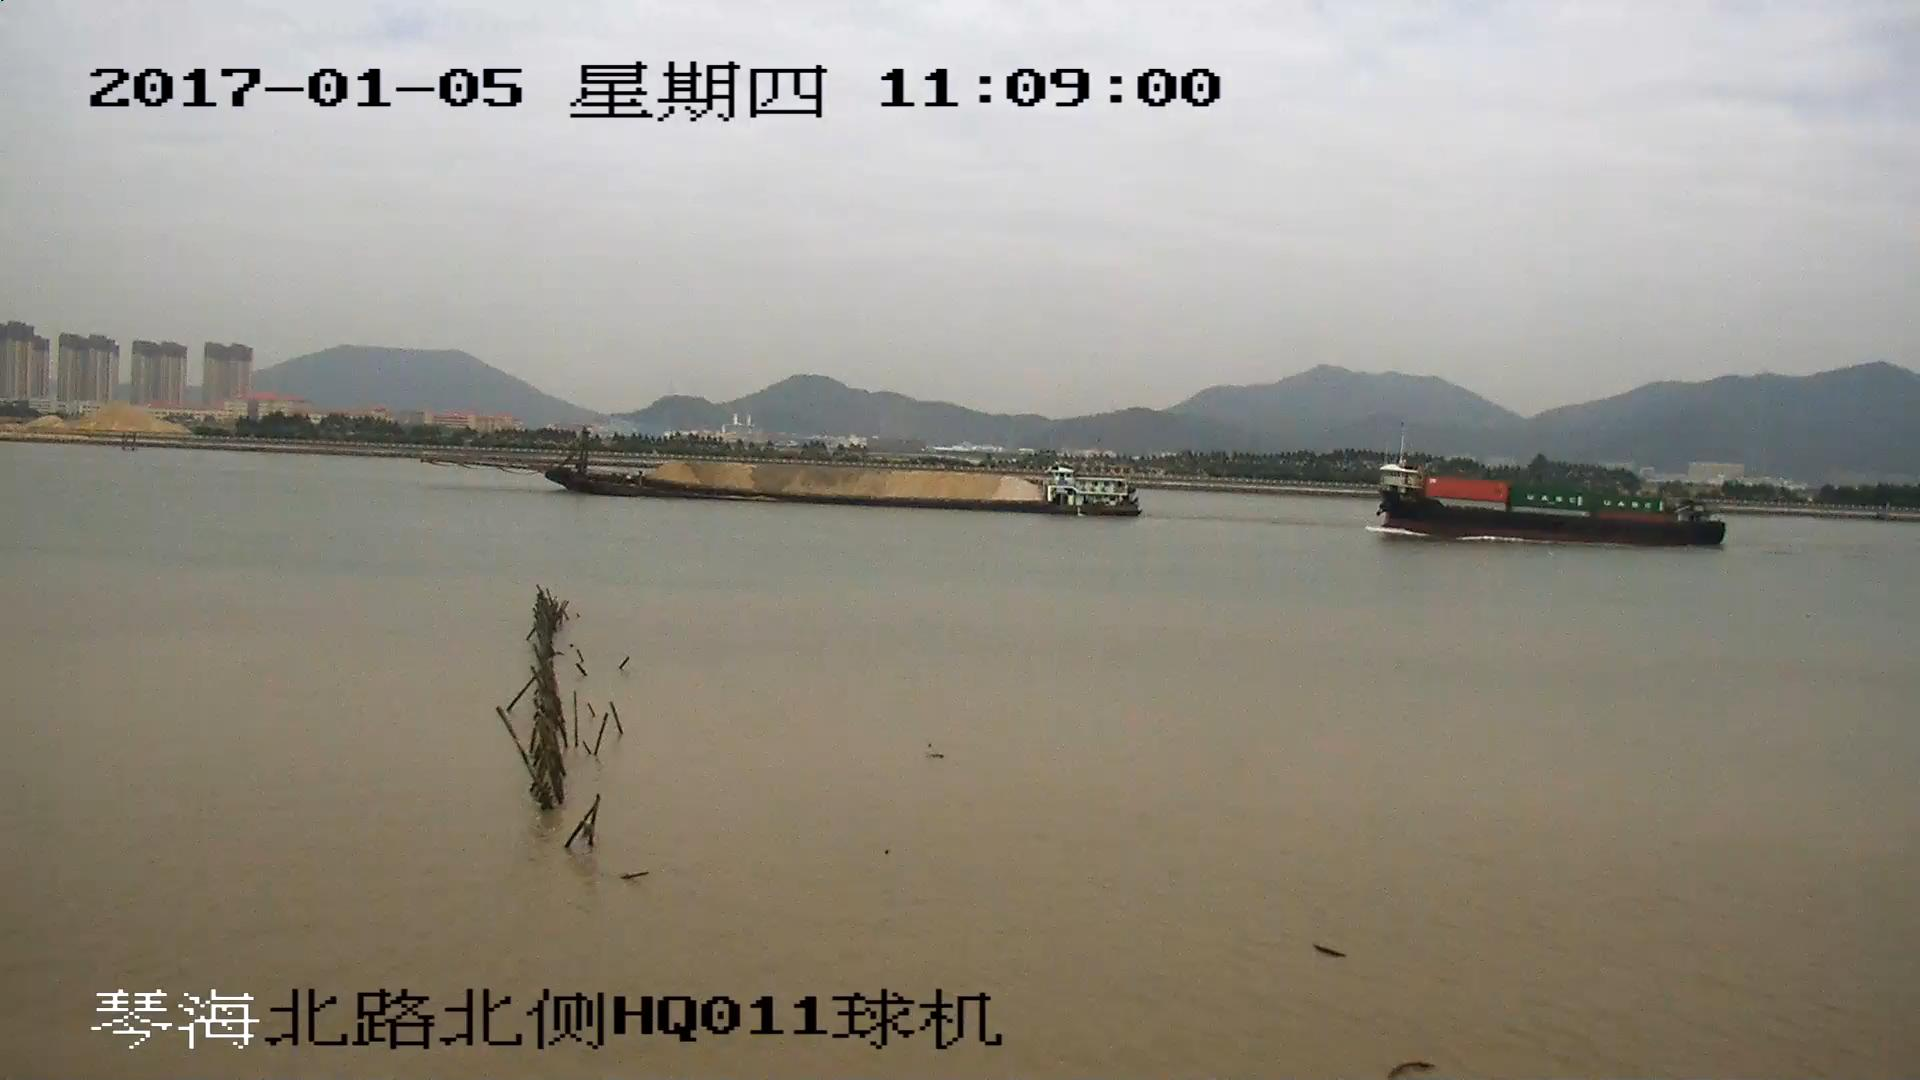container ship: (1374, 455, 1727, 545)
ore carrier: (443, 427, 1138, 516)
